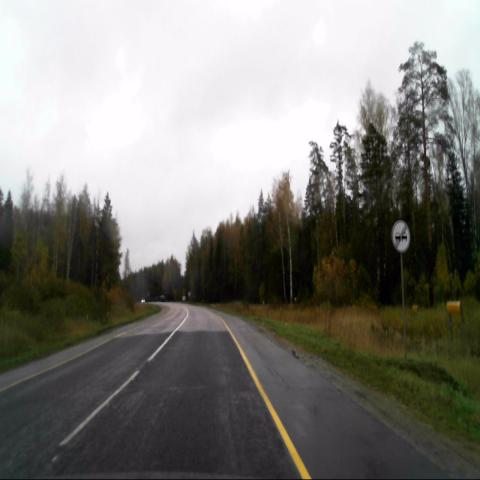3_21: (392, 220, 410, 254)
